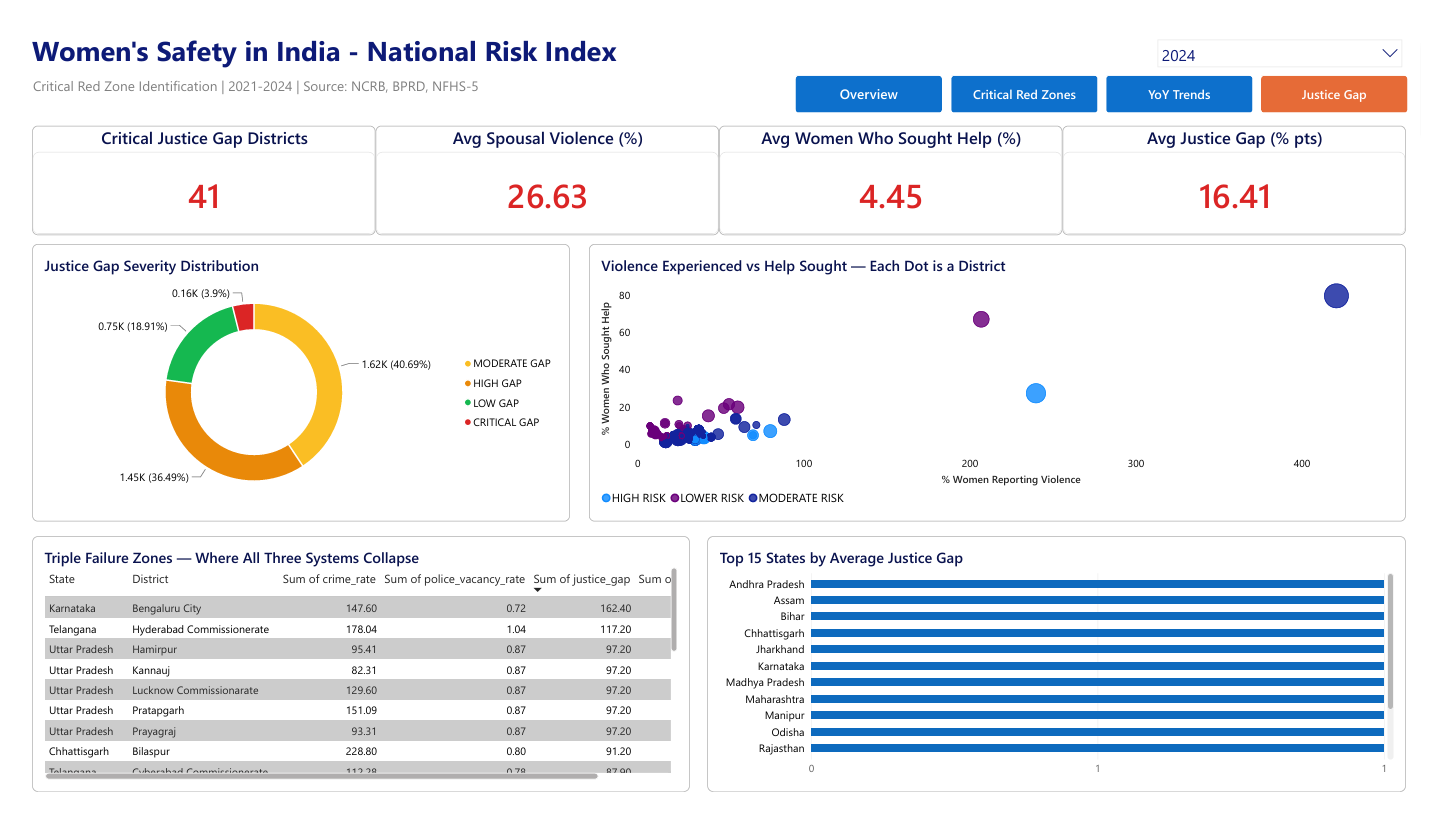

The dashboard page shown, as its layout file describes it:
{"tool":"powerbi","page":{"name":"Justice Gap & Underreporting","canvas":[1920,1080],"ordinal":3},"visuals":[{"type":"textbox","box":[20,20,1500,60],"z":0},{"type":"textbox","box":[21.4,80,877.1,44.3],"z":1000},{"type":"textbox","box":[20,710,580,370],"z":2000},{"type":"cardVisual","title":"Critical Justice Gap Districts","fields":{"Data":["_Measures.Total Critical Gap Districts"]},"box":[20,148,470,150],"z":3000},{"type":"cardVisual","title":"Avg Spousal Violence (%)","fields":{"Data":["_Measures.Avg Spousal Violence"]},"box":[490,148,470,150],"z":4000},{"type":"cardVisual","title":"Avg Women Who Sought Help (%)","fields":{"Data":["_Measures.Avg Help Seeking"]},"box":[960,148,470,150],"z":5000},{"type":"cardVisual","title":"Avg Justice Gap (% pts)","fields":{"Data":["_Measures.Avg Justice Component"]},"box":[1430,148,470,150],"z":6000},{"type":"slicer","fields":{"Values":["master_risk_scores.Year"]},"box":[1550,20,350,80],"z":7000},{"type":"donutChart","title":"Justice Gap Severity Distribution","fields":{"Category":["justice_gap_district.gap_severity"],"Y":["CountNonNull(justice_gap_district.District)"]},"box":[20,310,736,380],"z":11001},{"type":"scatterChart","title":"Violence Experienced vs Help Sought — Each Dot is a District","fields":{"Category":["master_risk_scores.District"],"Series":["master_risk_scores.Risk_Tier"],"Size":["Sum(master_risk_scores.Pop_2024_Est)"],"X":["Sum(master_risk_scores.Spousal_Violence_Percent)"],"Y":["Sum(master_risk_scores.Sought_Help_Percent)"]},"box":[782,310,1118,380],"z":11002},{"type":"tableEx","title":"Triple Failure Zones — Where All Three Systems Collapse","fields":{"Values":["triple_failure_zones.State","triple_failure_zones.District","Sum(triple_failure_zones.crime_rate)","Sum(triple_failure_zones.police_vacancy_rate)","Sum(triple_failure_zones.justice_gap)","Sum(triple_failure_zones.Pop_2024_Est)"]},"box":[20,710,900,350],"z":11003},{"type":"clusteredBarChart","title":"Top 15 States by Average Justice Gap","fields":{"Category":["state_justice_gap.State"],"Y":["CountNonNull(state_justice_gap.avg_justice_gap)"]},"box":[944,710,956,350],"z":11004},{"type":"actionButton","box":[1065,80,200,50],"z":11005},{"type":"actionButton","box":[1278,80,200,50],"z":11006},{"type":"actionButton","box":[1490,80,200,50],"z":11007},{"type":"actionButton","box":[1702,80,200,50],"z":11008}]}

Visuals, with their boxes in screenshot pixels (x1, y1, x2, y2), scaled from the page's 1920x1080 canvas onto the 1437x822 screenshot:
textbox: box(15, 15, 1138, 61)
textbox: box(16, 61, 672, 95)
textbox: box(15, 540, 449, 821)
"Critical Justice Gap Districts" cardVisual: box(15, 113, 367, 227)
"Avg Spousal Violence (%)" cardVisual: box(367, 113, 718, 227)
"Avg Women Who Sought Help (%)" cardVisual: box(718, 113, 1070, 227)
"Avg Justice Gap (% pts)" cardVisual: box(1070, 113, 1422, 227)
slicer - master_risk_scores.Year: box(1160, 15, 1422, 76)
"Justice Gap Severity Distribution" donutChart: box(15, 236, 566, 525)
"Violence Experienced vs Help Sought — Each Dot is a District" scatterChart: box(585, 236, 1422, 525)
"Triple Failure Zones — Where All Three Systems Collapse" tableEx: box(15, 540, 689, 807)
"Top 15 States by Average Justice Gap" clusteredBarChart: box(707, 540, 1422, 807)
actionButton: box(797, 61, 947, 99)
actionButton: box(957, 61, 1106, 99)
actionButton: box(1115, 61, 1265, 99)
actionButton: box(1274, 61, 1424, 99)
